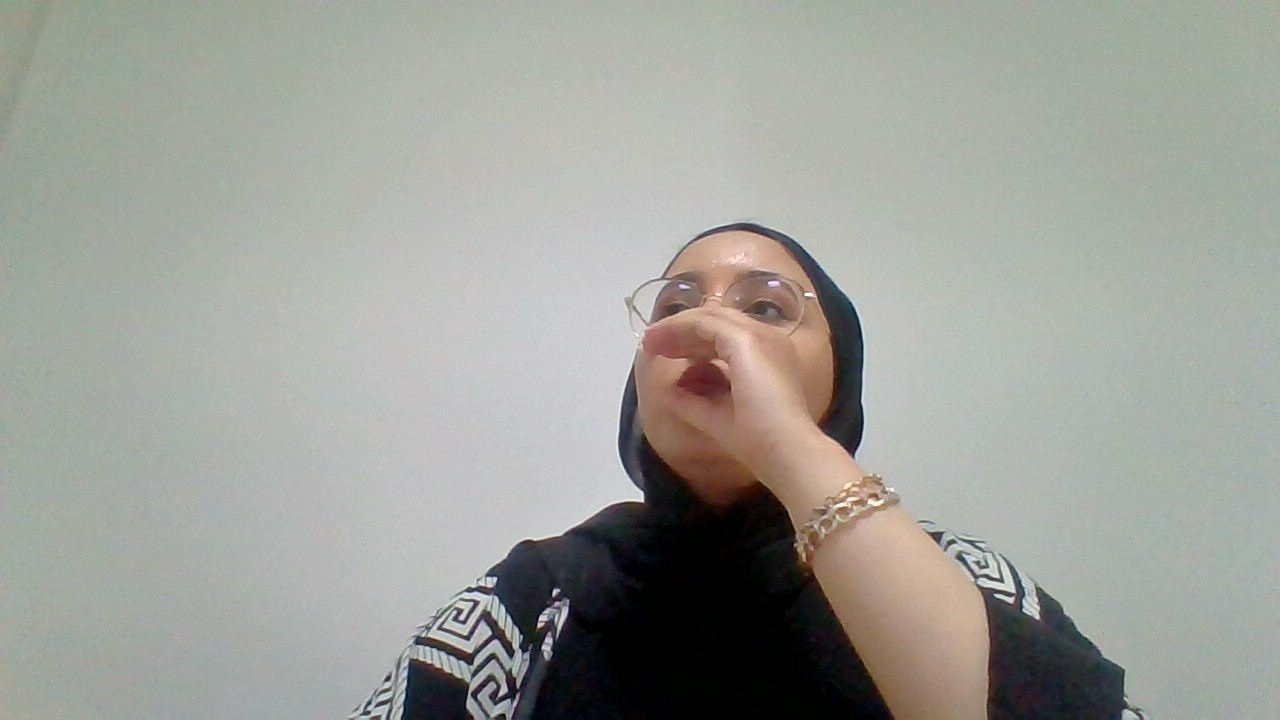drink: (634, 307, 826, 462)
